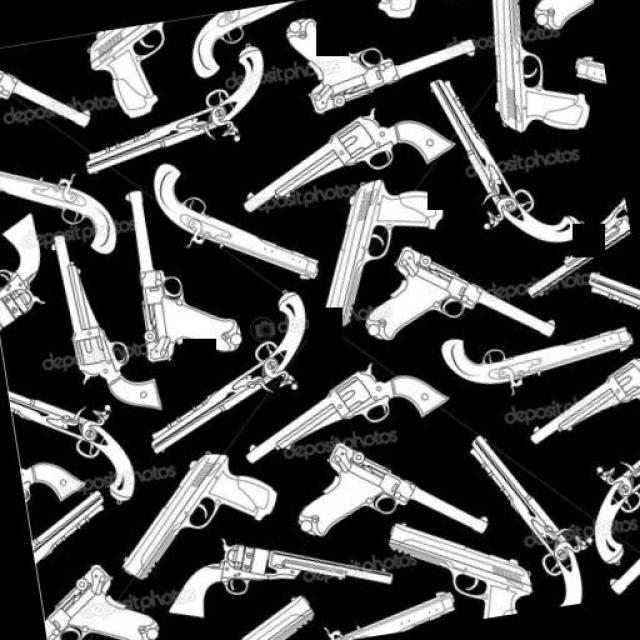gun: (267, 420, 498, 580), (330, 225, 561, 369), (62, 36, 282, 180), (33, 211, 178, 424), (292, 165, 462, 335), (111, 172, 256, 368), (91, 440, 286, 584), (233, 350, 462, 465), (223, 95, 448, 211), (270, 0, 486, 118), (3, 349, 152, 515), (465, 0, 612, 162), (378, 500, 538, 626), (0, 203, 69, 335)
